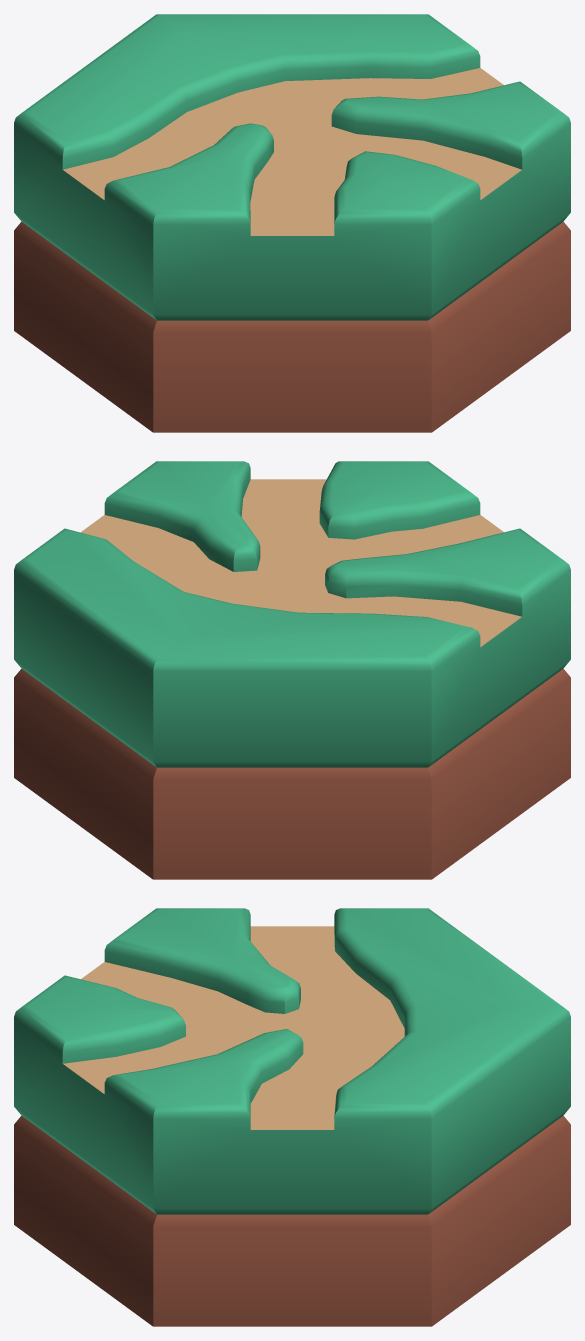
File: hex_forest_roadK_detail.glb
The picture shows the model from 3 angles, top to bottom: view 1: azimuth 30°, elevation 25°; view 2: azimuth 150°, elevation 25°; view 3: azimuth 270°, elevation 25°; orthographic projection.
Parts seen in each view (by area): view 1: hex_forest_roadK_detail; view 2: hex_forest_roadK_detail; view 3: hex_forest_roadK_detail.
Boxes of the visible parts, x1,y1,x2,y2 form: hex_forest_roadK_detail: (14,14,570,432); hex_forest_roadK_detail: (14,461,570,879); hex_forest_roadK_detail: (14,908,570,1326).
Bounding box in the file's own units: 2 × 1 × 2.31.
